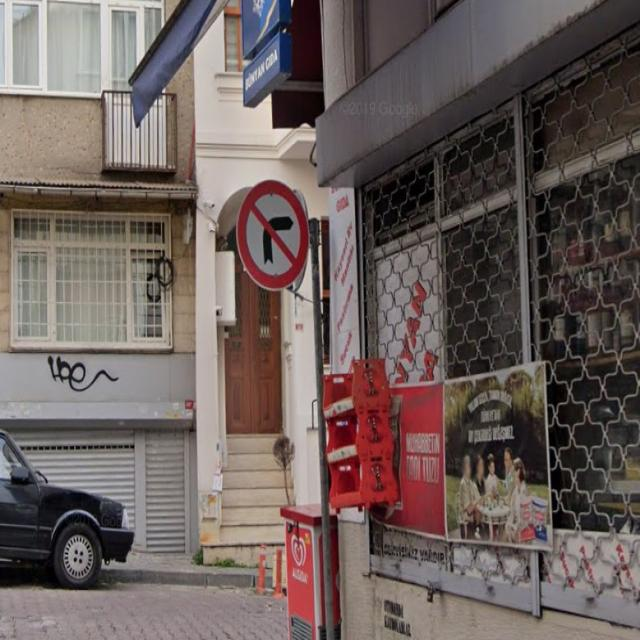sagadonulmez: (237, 181, 309, 291)
